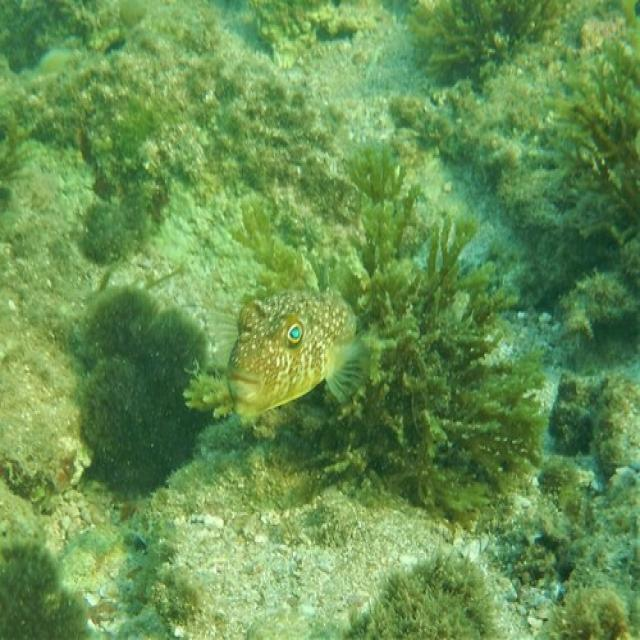Balik: (227, 291, 363, 417)
